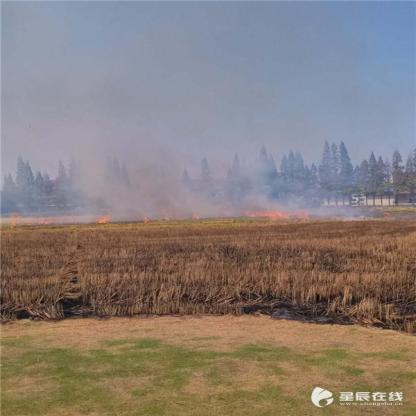fire: (244, 203, 304, 225), (91, 208, 110, 224), (140, 209, 153, 223)
smoke: (138, 154, 186, 204), (82, 159, 112, 205), (247, 157, 272, 192)
